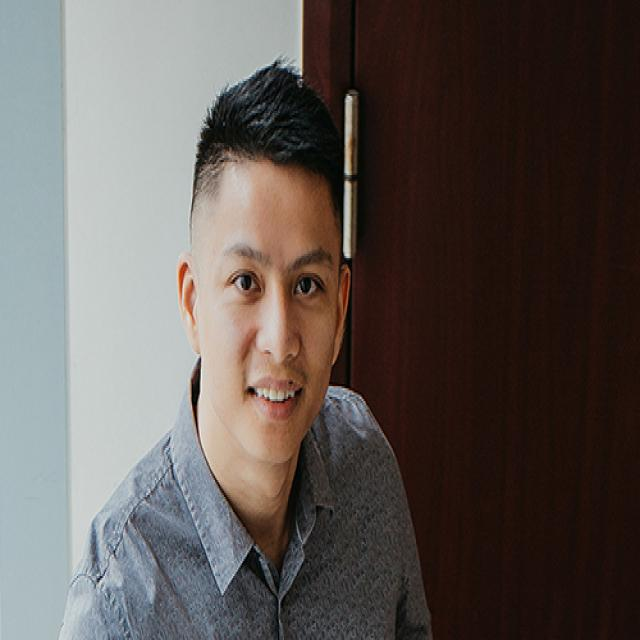Nonhelmet: (173, 54, 358, 468)
